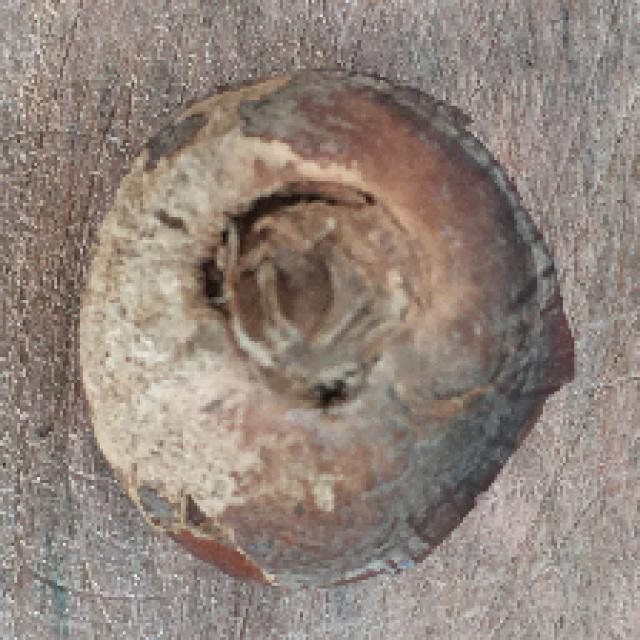DamagedHazelnut: (77, 70, 580, 592)
